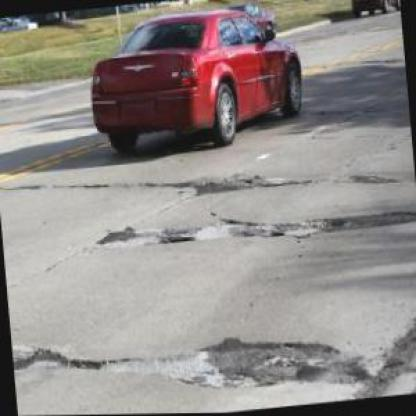pothole: (194, 322, 366, 399), (264, 206, 414, 242), (188, 166, 288, 196), (156, 228, 196, 246)
